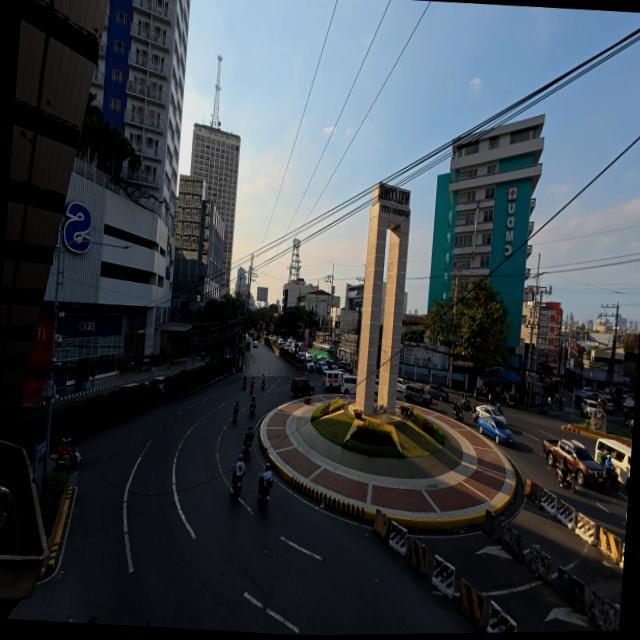Jeepneys: (245, 339, 250, 351)
car: (476, 415, 513, 445), (476, 405, 506, 429), (403, 384, 431, 408), (290, 378, 313, 398), (426, 384, 447, 401), (579, 398, 596, 418), (145, 376, 164, 393), (597, 394, 612, 412), (116, 382, 139, 391), (337, 361, 352, 374), (396, 378, 405, 393), (315, 362, 327, 373), (303, 359, 314, 371), (582, 387, 593, 397), (315, 354, 327, 363), (326, 361, 337, 370), (296, 352, 305, 360), (304, 352, 312, 360), (628, 419, 633, 431), (374, 376, 378, 390), (277, 339, 283, 346), (252, 340, 257, 347)
motorcycle: (50, 447, 80, 471), (555, 465, 575, 494), (258, 475, 271, 508), (231, 469, 241, 498), (604, 469, 618, 489), (468, 403, 479, 423), (242, 436, 251, 455), (452, 409, 463, 423), (473, 387, 484, 400), (505, 394, 516, 407), (537, 402, 547, 414), (459, 398, 469, 410), (623, 413, 633, 424), (557, 398, 564, 412), (495, 403, 502, 416), (232, 408, 238, 423), (248, 383, 254, 395), (249, 402, 254, 415), (241, 380, 245, 389), (260, 381, 264, 389)
trucks: (542, 440, 603, 485)
vans: (594, 439, 631, 487), (322, 370, 341, 389), (340, 375, 356, 394)
